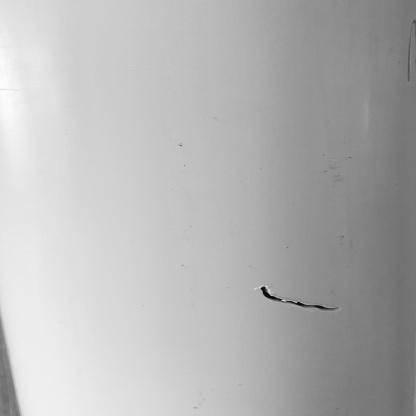fengxi: (248, 275, 352, 323)
